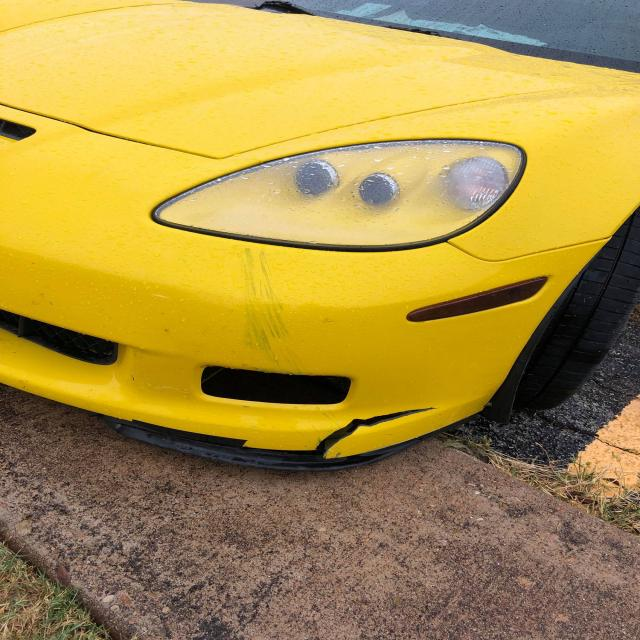scratch: (234, 244, 306, 375), (128, 373, 193, 395), (321, 408, 341, 429), (311, 424, 324, 444), (150, 292, 173, 300), (332, 452, 342, 458), (303, 445, 308, 447)
tear: (315, 407, 442, 458)
